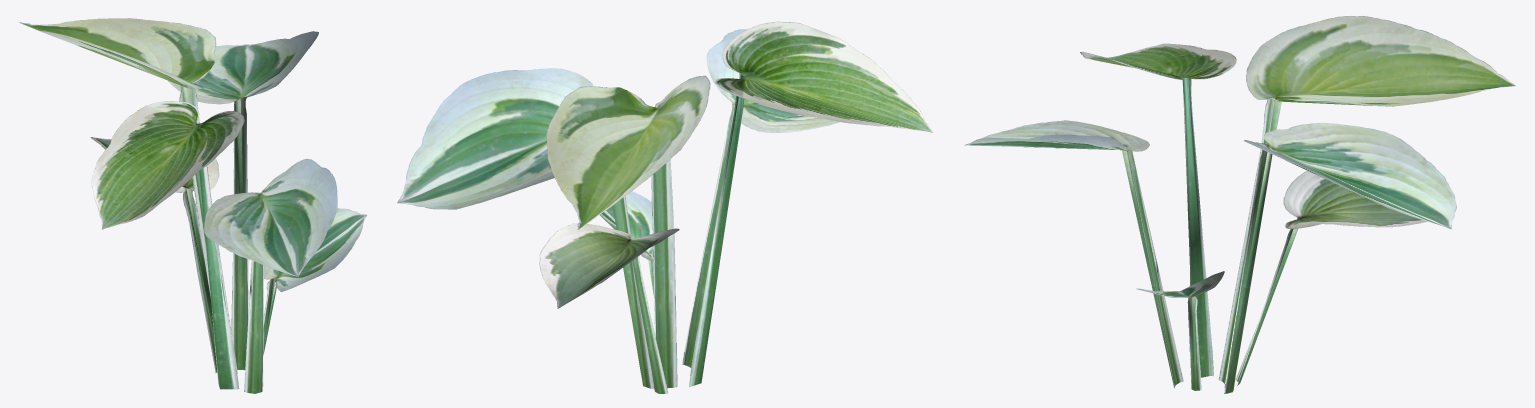
Rendered from plant_small_wg_00O.fbx.
3 views of the same model, side by side, from view 1: azimuth 30°, elevation 25°; view 2: azimuth 150°, elevation 25°; view 3: azimuth 270°, elevation 25° (orthographic). The views are drawn at different scales.
Visible parts, largest first — view 1: plant_small_wg_00O; view 2: plant_small_wg_00O; view 3: plant_small_wg_00O.
Boxes of the visible parts, x1,y1,x2,y2 form: plant_small_wg_00O: [19, 18, 366, 393]; plant_small_wg_00O: [397, 21, 932, 393]; plant_small_wg_00O: [964, 16, 1515, 393].
Bounding box in the file's own units: 39.46 × 37.41 × 57.13.
Materials: 1 (1 with a texture image).
